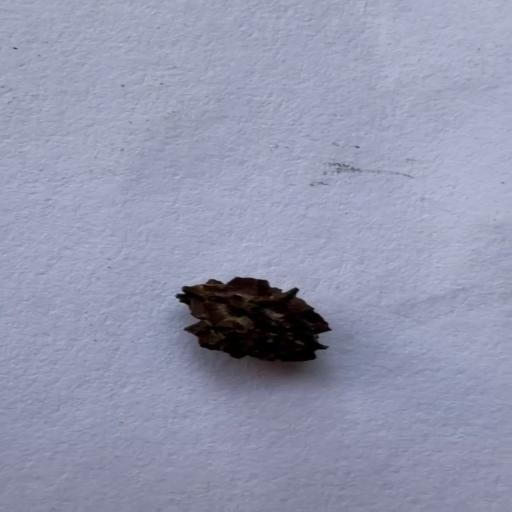papaya_seed: (175, 277, 340, 370)
